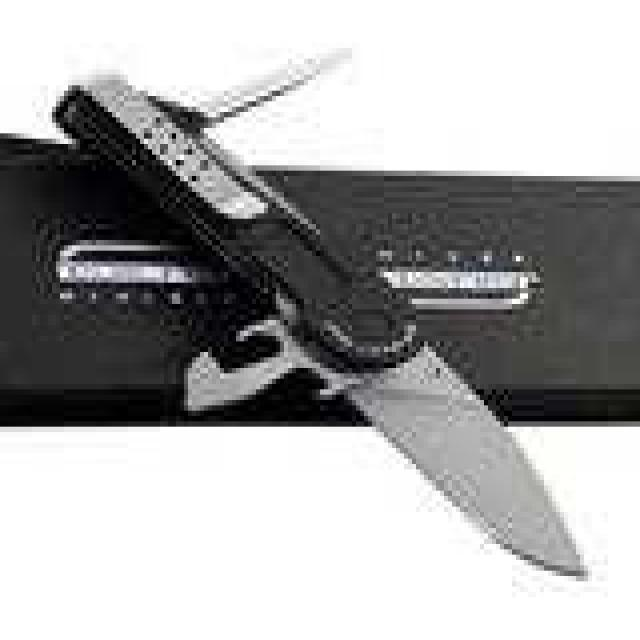Knife: (47, 43, 594, 591)
